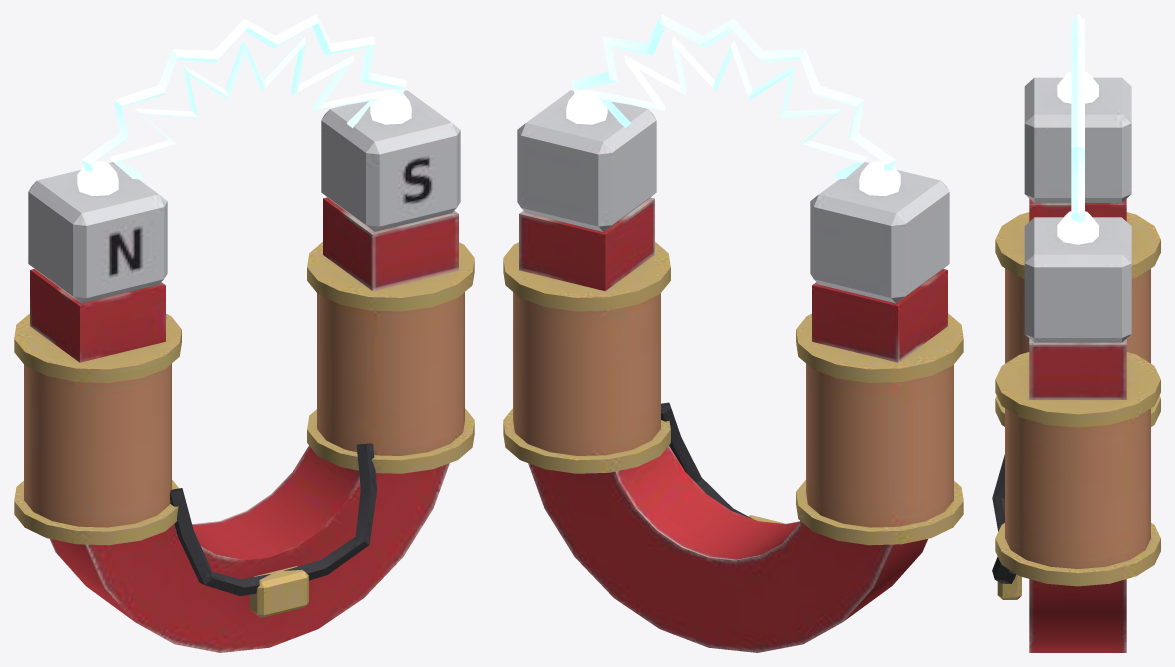
Rendered from magnet.glb.
3 renders of one model, left to right at view 1: azimuth 30°, elevation 25°; view 2: azimuth 150°, elevation 25°; view 3: azimuth 270°, elevation 25°, orthographic. The views are drawn at different scales.
Parts seen in each view (by area): view 1: body, mesh_field; view 2: body, mesh_field; view 3: body, mesh_field.
Part boxes in pixels (x1,y1,x2,y2): body: [14, 90, 474, 652]; mesh_field: [77, 14, 411, 196]; body: [503, 90, 963, 652]; mesh_field: [566, 14, 900, 196]; body: [992, 77, 1160, 652]; mesh_field: [1057, 14, 1098, 244].
Bounding box in the file's own units: 0.8976 × 1.19 × 0.3051.
3 materials, 1 textured.
